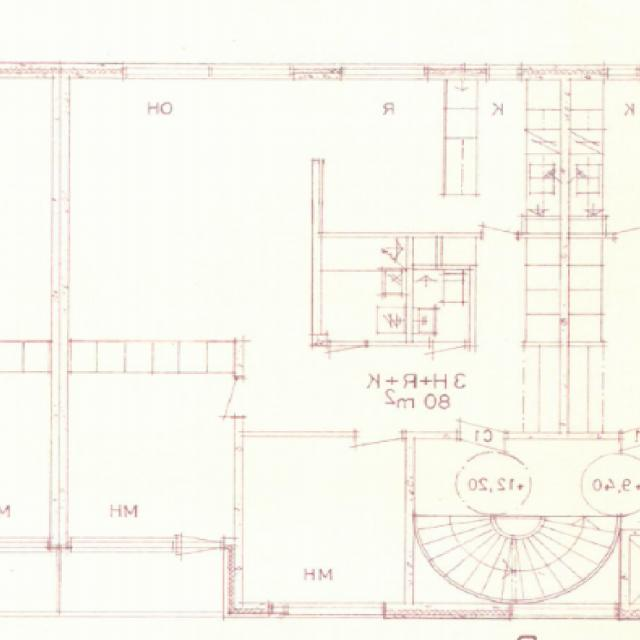door: (460, 393, 506, 441), (460, 431, 506, 479), (188, 378, 243, 417), (180, 504, 219, 551), (180, 537, 219, 584), (357, 431, 399, 473), (331, 340, 368, 379), (482, 202, 518, 238), (436, 341, 466, 372)
